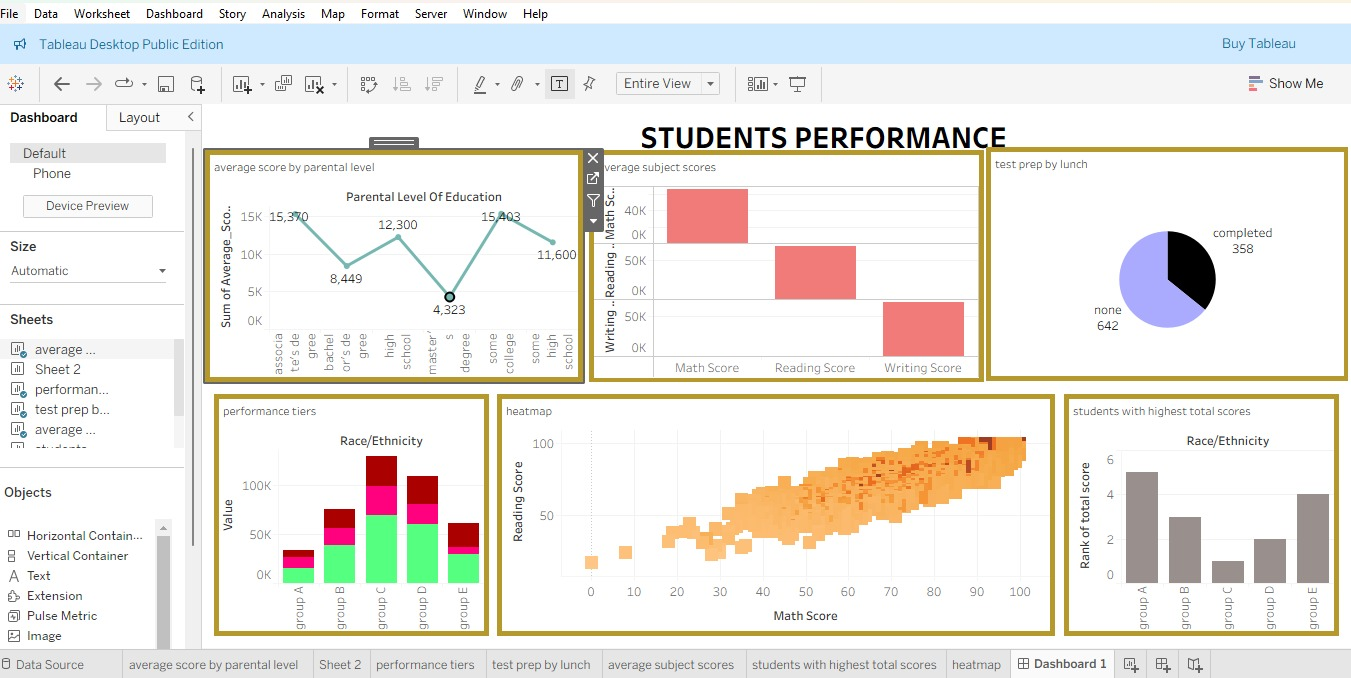

Layout of this report page (visuals, bound fields, positions):
{"tool":"tableau","page":{"name":"Dashboard 1","canvas":[1000,1000],"units":"permille","ordinal":0},"visuals":[{"type":"title","box":[4.7,10,990.6,72.4]},{"type":"worksheet","title":"test prep by lunch","mark":"Pie","box":[681.9,79.9,315.8,430.7]},{"type":"worksheet","title":"average score by parental level","mark":"Line","rows":["Calculation_229120684847370240"],"cols":["parental level of education"],"box":[2.3,83.7,329.2,427]},{"type":"worksheet","title":"average subject scores","mark":"Bar","rows":["math score","reading score","writing score"],"box":[336.9,83.7,343.9,428.2]},{"type":"worksheet","title":"performance tiers","mark":"Bar","cols":["race/ethnicity"],"box":[4.7,516.8,247.7,473.2]},{"type":"worksheet","title":"heatmap","mark":"Square","rows":["reading score"],"cols":["math score"],"box":[252.3,516.8,495.3,473.2]},{"type":"worksheet","title":"students with highest total scores","mark":"Automatic","rows":["Calculation_1673087315499036672"],"cols":["race/ethnicity"],"box":[747.6,516.8,247.7,473.2]}]}

Visuals, with their boxes on the dashboard's canvas, which has no fixed pixel size, in thousandths of its width and height (x1, y1, x2, y2). These are canvas units, not pixel positions in the 1351x678 screenshot, which may show the page scaled, cropped or inside an application window:
title: (x1=5, y1=10, x2=995, y2=82)
"test prep by lunch" worksheet (Pie marks): (x1=682, y1=80, x2=998, y2=511)
"average score by parental level" worksheet (Line marks): (x1=2, y1=84, x2=332, y2=511)
"average subject scores" worksheet (Bar marks): (x1=337, y1=84, x2=681, y2=512)
"performance tiers" worksheet (Bar marks): (x1=5, y1=517, x2=252, y2=990)
"heatmap" worksheet (Square marks): (x1=252, y1=517, x2=748, y2=990)
"students with highest total scores" worksheet: (x1=748, y1=517, x2=995, y2=990)
